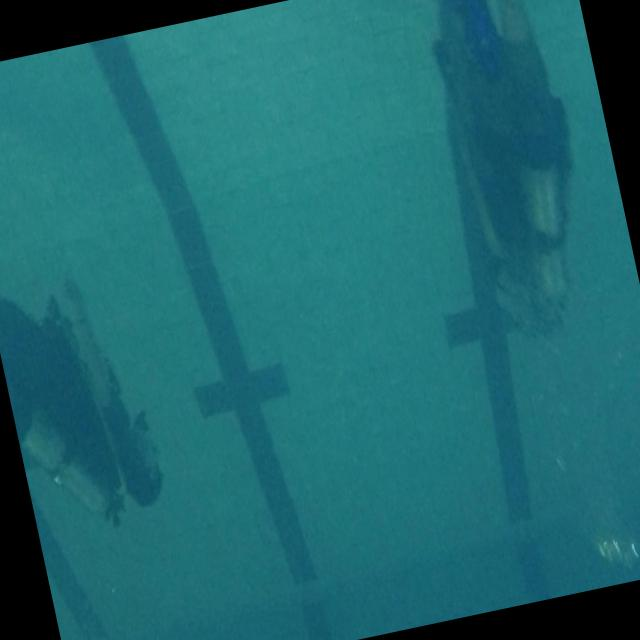human: (415, 0, 613, 353), (0, 257, 172, 546)
